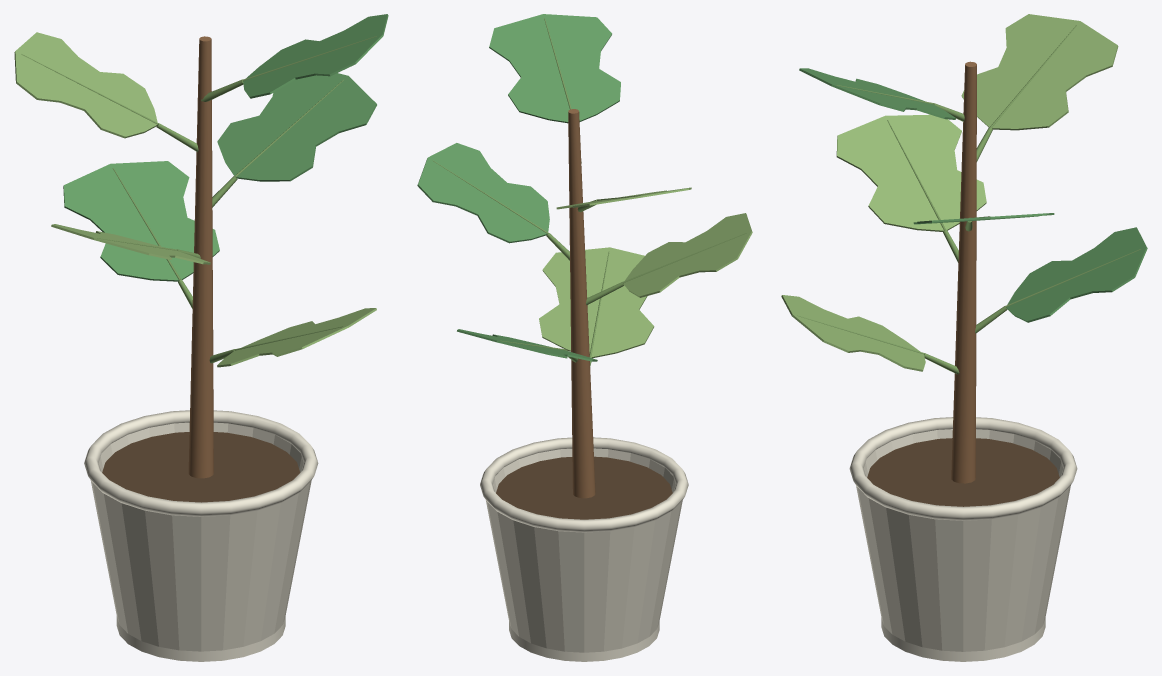
The model's file is houseplant_fiddle_leaf_fig.glb.
3 views of the same model, side by side, from view 1: azimuth 30°, elevation 25°; view 2: azimuth 150°, elevation 25°; view 3: azimuth 270°, elevation 25° (orthographic). The views are drawn at different scales.
Visible parts, largest first — view 1: Fiddle_Fig_Open_Pot, Fiddle_Fig_Violin_Leaf_1, Fiddle_Fig_Violin_Leaf_3, Fiddle_Fig_Visible_Soil, Fiddle_Fig_Main_Trunk, Fiddle_Fig_Violin_Leaf_4, Fiddle_Fig_Pot_Rim, Fiddle_Fig_Violin_Leaf_5, Fiddle_Fig_Violin_Leaf_0, Fiddle_Fig_Pot_Floor, Fiddle_Fig_Violin_Leaf_2; view 2: Fiddle_Fig_Open_Pot, Fiddle_Fig_Violin_Leaf_5, Fiddle_Fig_Visible_Soil, Fiddle_Fig_Violin_Leaf_0, Fiddle_Fig_Violin_Leaf_3, Fiddle_Fig_Main_Trunk, Fiddle_Fig_Pot_Rim, Fiddle_Fig_Violin_Leaf_2, Fiddle_Fig_Pot_Floor, Fiddle_Fig_Violin_Leaf_1, Fiddle_Fig_Violin_Leaf_4; view 3: Fiddle_Fig_Open_Pot, Fiddle_Fig_Violin_Leaf_2, Fiddle_Fig_Violin_Leaf_4, Fiddle_Fig_Visible_Soil, Fiddle_Fig_Main_Trunk, Fiddle_Fig_Pot_Rim, Fiddle_Fig_Violin_Leaf_1, Fiddle_Fig_Violin_Leaf_0, Fiddle_Fig_Violin_Leaf_5, Fiddle_Fig_Pot_Floor.
Part boxes in pixels (left/top/right/bottom): Fiddle_Fig_Open_Pot: left=90, top=422, right=311, bottom=651; Fiddle_Fig_Violin_Leaf_1: left=63, top=161, right=219, bottom=281; Fiddle_Fig_Violin_Leaf_3: left=217, top=73, right=376, bottom=181; Fiddle_Fig_Visible_Soil: left=102, top=432, right=300, bottom=502; Fiddle_Fig_Main_Trunk: left=188, top=36, right=213, bottom=478; Fiddle_Fig_Violin_Leaf_4: left=14, top=32, right=157, bottom=138; Fiddle_Fig_Pot_Rim: left=84, top=410, right=318, bottom=516; Fiddle_Fig_Violin_Leaf_5: left=243, top=14, right=388, bottom=98; Fiddle_Fig_Violin_Leaf_0: left=217, top=308, right=376, bottom=367; Fiddle_Fig_Pot_Floor: left=116, top=616, right=285, bottom=661; Fiddle_Fig_Violin_Leaf_2: left=51, top=224, right=210, bottom=264; Fiddle_Fig_Open_Pot: left=486, top=448, right=682, bottom=652; Fiddle_Fig_Violin_Leaf_5: left=489, top=14, right=620, bottom=123; Fiddle_Fig_Visible_Soil: left=496, top=456, right=672, bottom=519; Fiddle_Fig_Violin_Leaf_0: left=539, top=247, right=654, bottom=358; Fiddle_Fig_Violin_Leaf_3: left=417, top=143, right=549, bottom=243; Fiddle_Fig_Main_Trunk: left=568, top=109, right=595, bottom=498; Fiddle_Fig_Pot_Rim: left=480, top=437, right=688, bottom=532; Fiddle_Fig_Violin_Leaf_2: left=623, top=213, right=752, bottom=297; Fiddle_Fig_Pot_Floor: left=509, top=621, right=659, bottom=661; Fiddle_Fig_Violin_Leaf_1: left=457, top=329, right=597, bottom=361; Fiddle_Fig_Violin_Leaf_4: left=556, top=187, right=691, bottom=209; Fiddle_Fig_Open_Pot: left=856, top=429, right=1070, bottom=651; Fiddle_Fig_Violin_Leaf_2: left=836, top=114, right=986, bottom=231; Fiddle_Fig_Violin_Leaf_4: left=961, top=14, right=1118, bottom=130; Fiddle_Fig_Visible_Soil: left=867, top=438, right=1059, bottom=506; Fiddle_Fig_Main_Trunk: left=951, top=61, right=976, bottom=483; Fiddle_Fig_Pot_Rim: left=849, top=417, right=1077, bottom=520; Fiddle_Fig_Violin_Leaf_1: left=1006, top=227, right=1147, bottom=322; Fiddle_Fig_Violin_Leaf_0: left=781, top=295, right=925, bottom=371; Fiddle_Fig_Violin_Leaf_5: left=799, top=68, right=955, bottom=119; Fiddle_Fig_Pot_Floor: left=881, top=618, right=1045, bottom=661.
Size of the model in its own units: 0.7204 by 1.31 by 0.7265.
